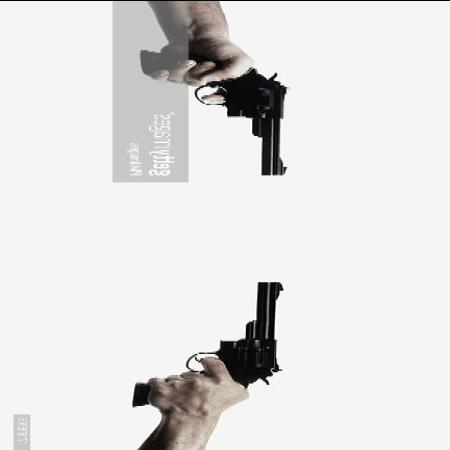Pistol: (137, 39, 291, 183), (132, 277, 287, 411)
